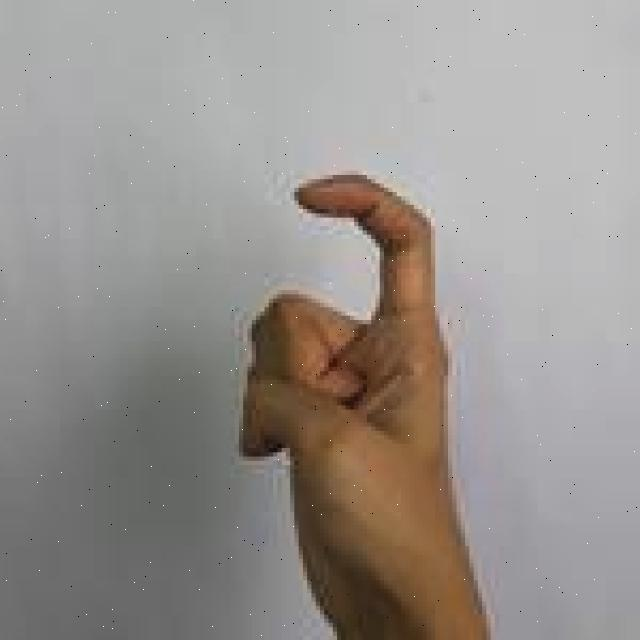X: (232, 163, 516, 640)
